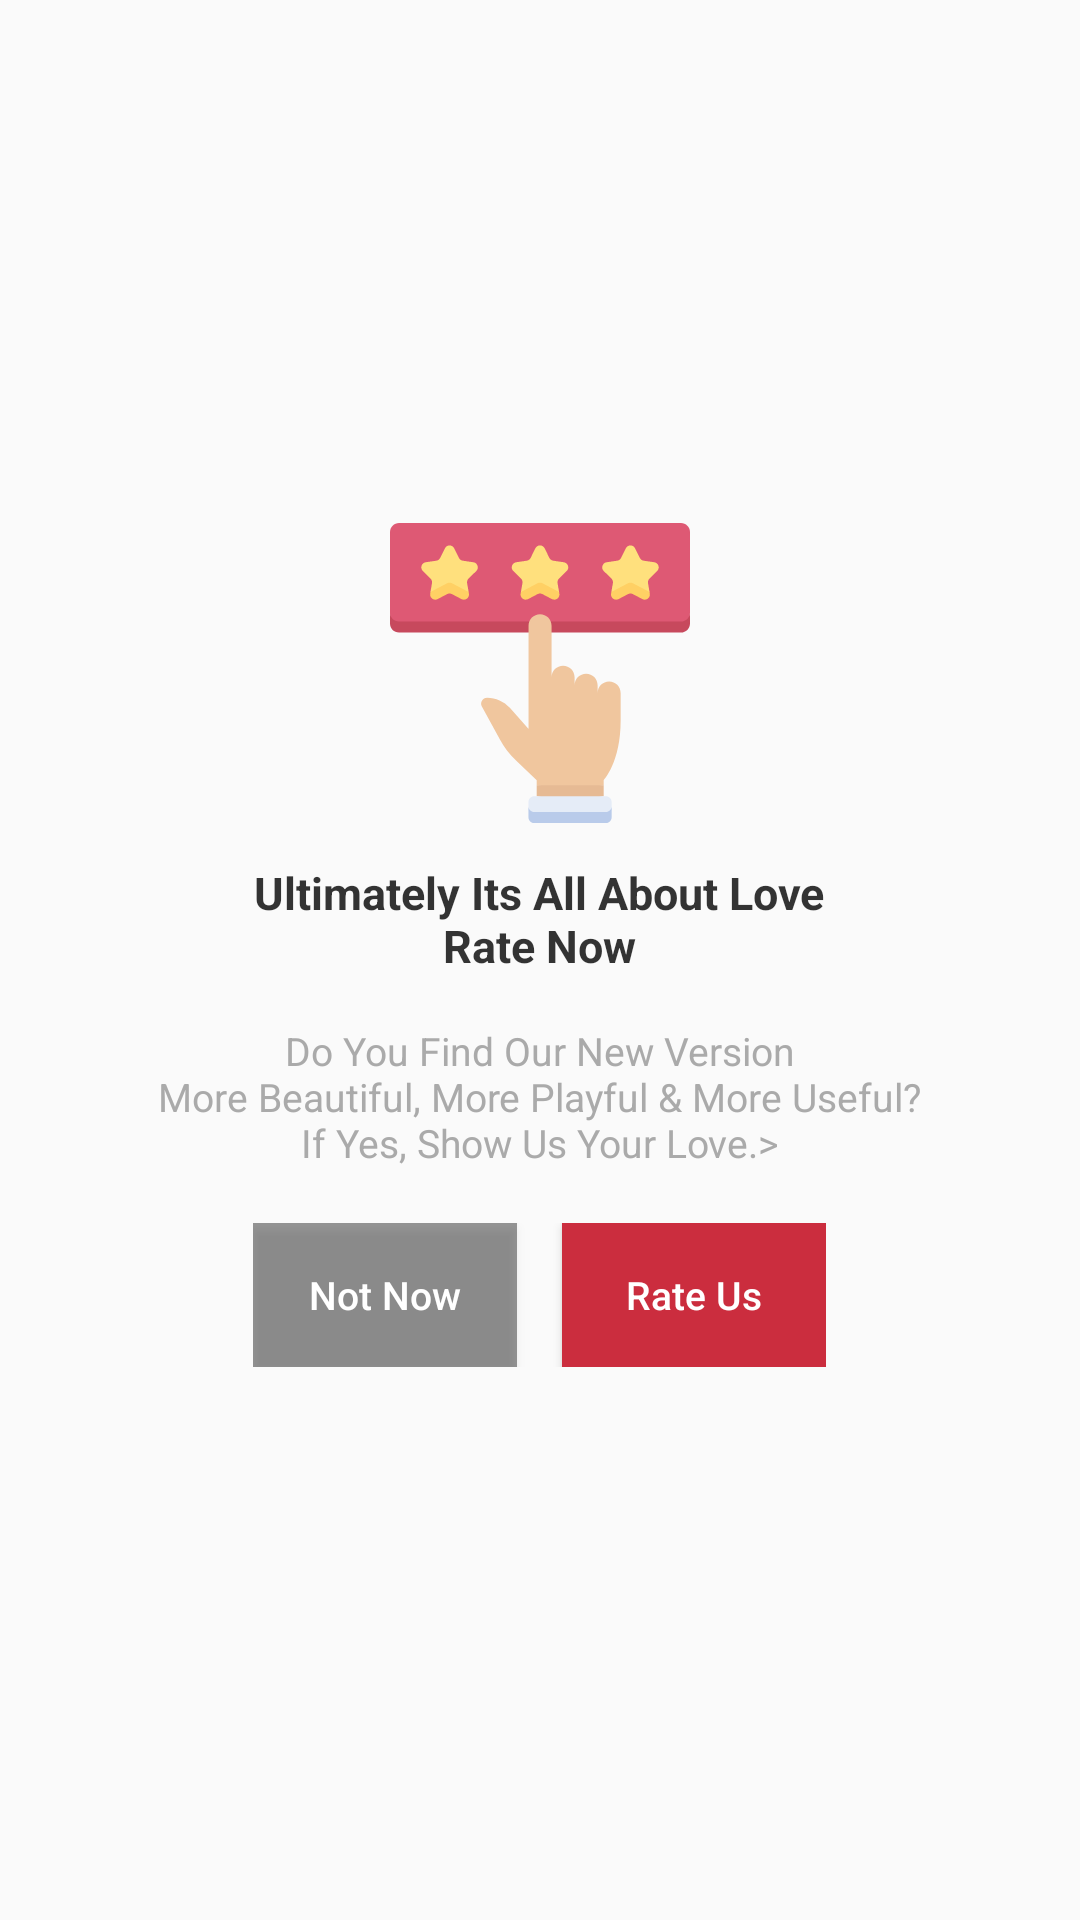

Where to tap for icons on this 1080px×1920px app screen, as (x,y):
review: (540,673)
